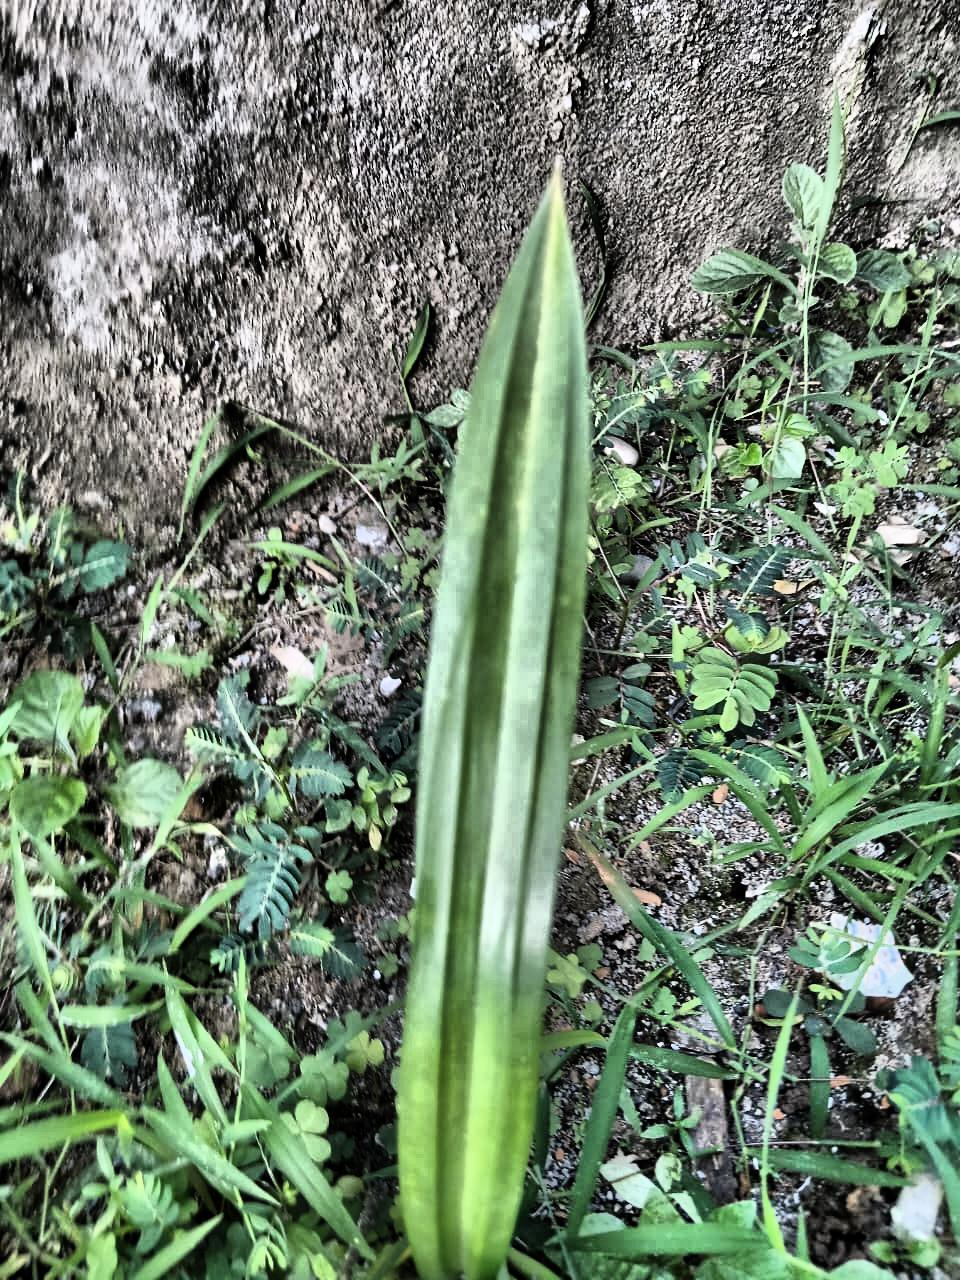daun pandan: (397, 172, 591, 1279)
